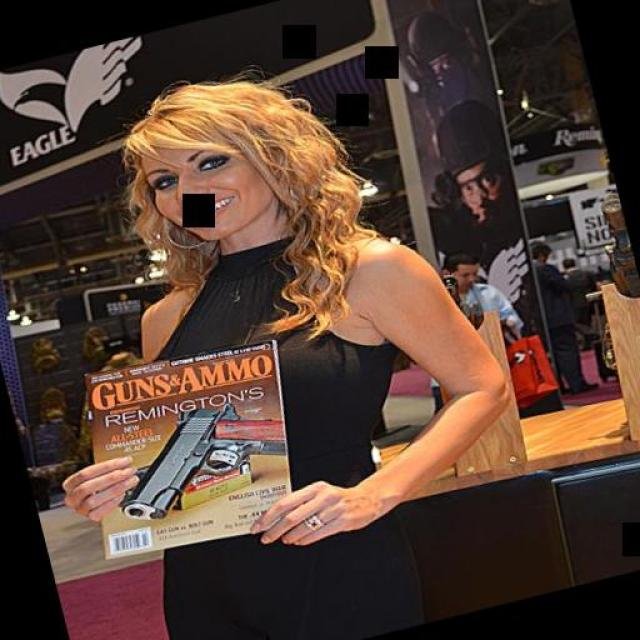gun: (98, 400, 258, 534)
